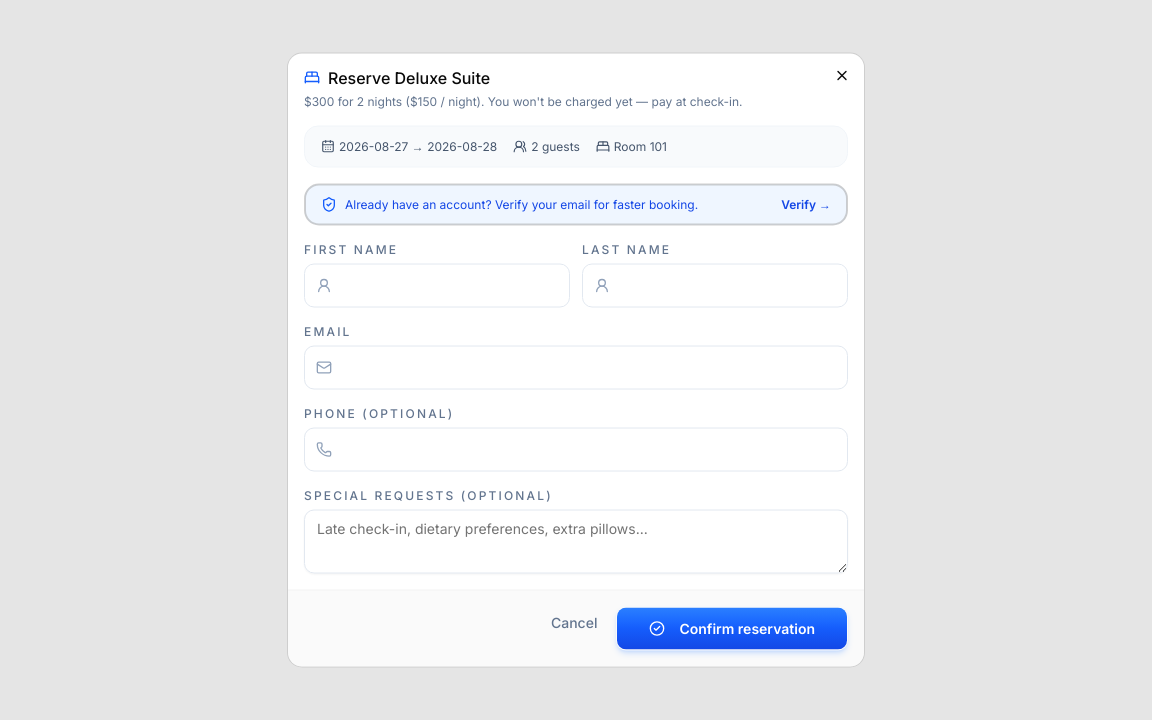
Test: BookingDialog › shows server field errors returned from the action
Click the button "Confirm reservation" at (732,628), box [616,606,848,650]
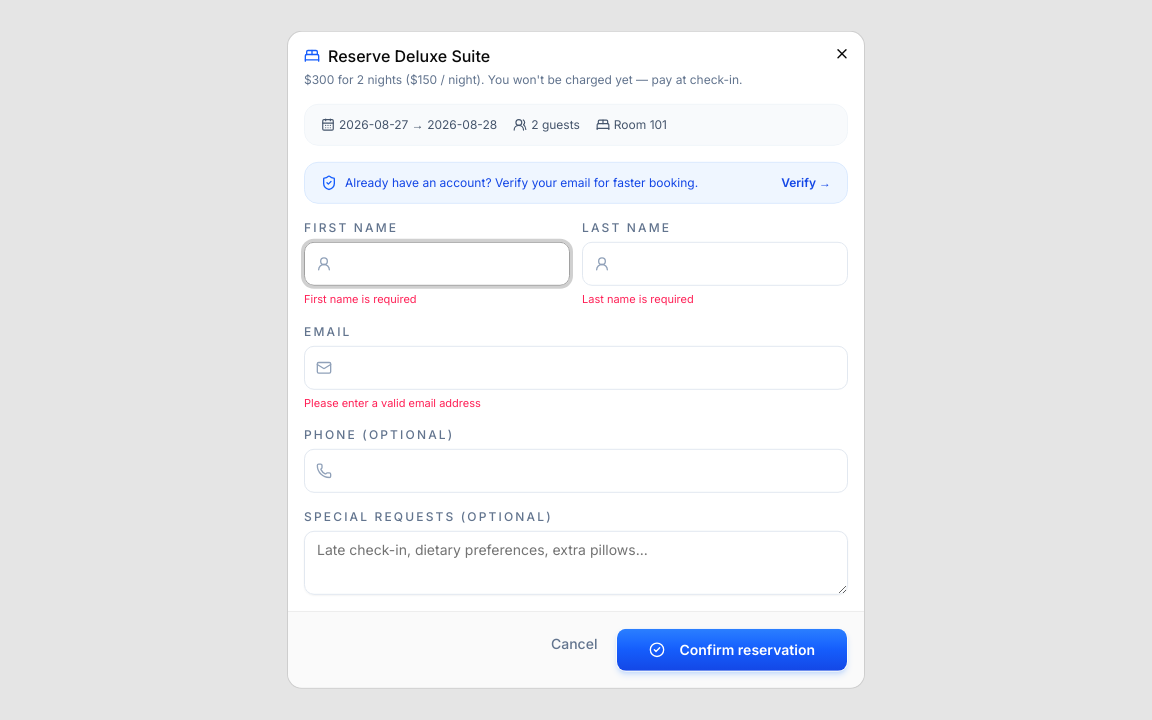
Result: the text "Please enter a valid email address" is shown at [304,396,481,410]
